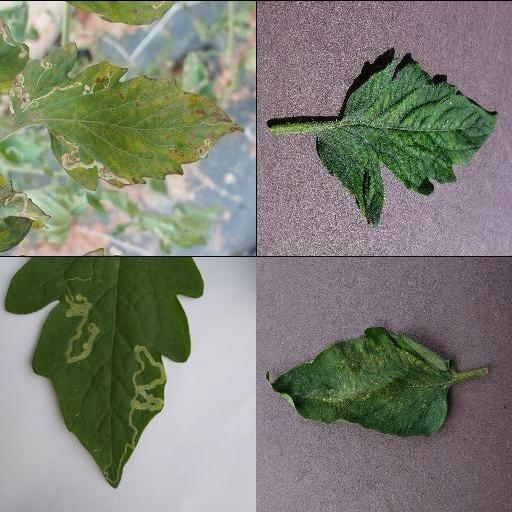Leaf Miner: (4, 256, 204, 492), (7, 41, 246, 191)
Mosaic Virus: (316, 58, 500, 230)
Spider Mites: (266, 326, 456, 436)
